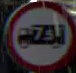Heavy Vehicles: (5, 0, 75, 69)
